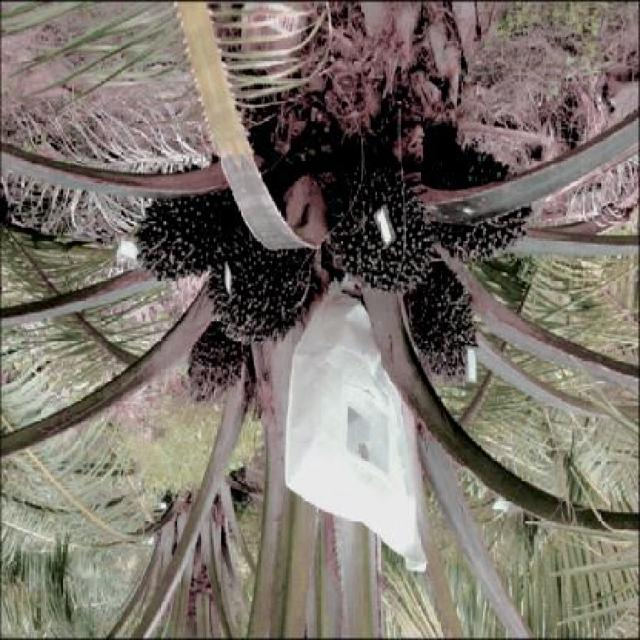palm-oil: (324, 140, 440, 290), (125, 179, 238, 281), (433, 144, 532, 260), (402, 258, 490, 387), (212, 255, 311, 350), (176, 318, 248, 410)
